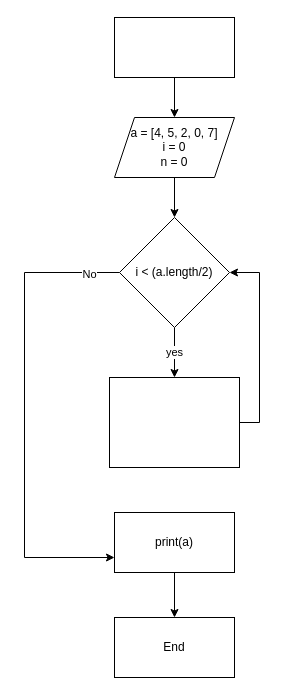
The diagram is 285 pixels wide and 695 high, and some of its shapes have lost their labels. The centre of each missing label's shape, as x and y in pixels:
"n = a[a.length - 1 - i] a[a.length - 1 - i] = a[i] a[i] = n i = i + 1" belongs at [174,422].
"Start" belongs at [174,47].
